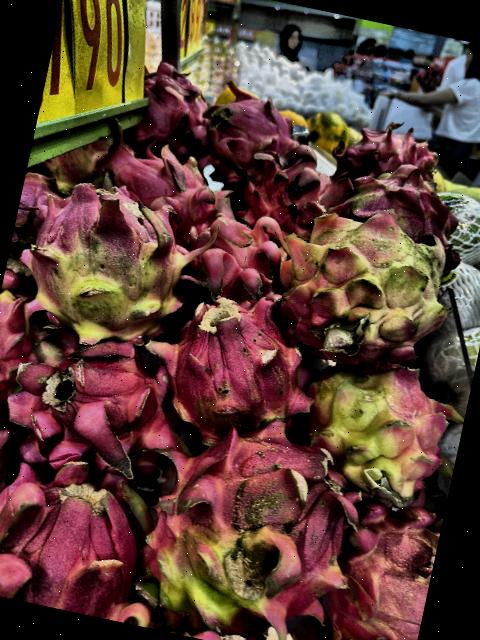buah-naga-belum-matang: (126, 388, 374, 636), (265, 186, 457, 364), (10, 164, 198, 340), (287, 331, 466, 494), (334, 155, 472, 266), (0, 287, 44, 399)
buah-naga-matang: (0, 308, 197, 484), (0, 431, 162, 623), (148, 280, 324, 438), (323, 488, 444, 640), (170, 188, 295, 304), (186, 60, 302, 185), (118, 58, 229, 167), (233, 130, 349, 232), (89, 127, 214, 220), (333, 109, 439, 188)
